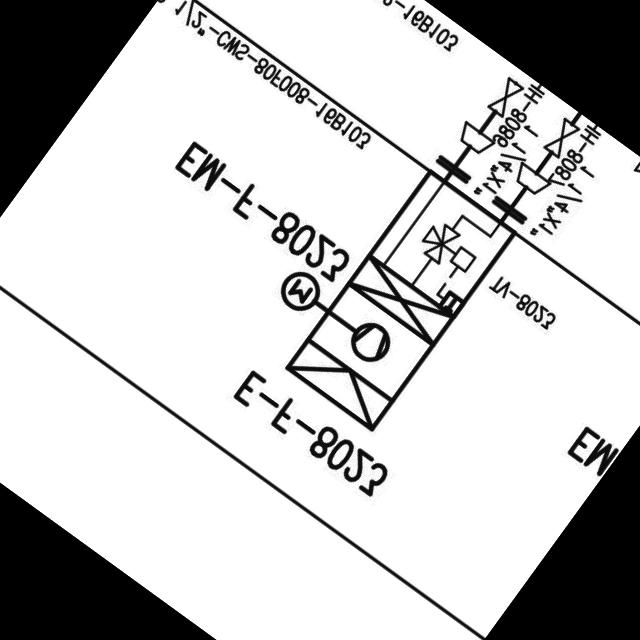3W: (410, 214, 464, 269)
GV: (480, 71, 526, 122), (536, 114, 582, 163)
M: (272, 262, 328, 317)
P: (342, 315, 396, 370)
SP: (508, 158, 554, 202), (448, 118, 496, 160)
